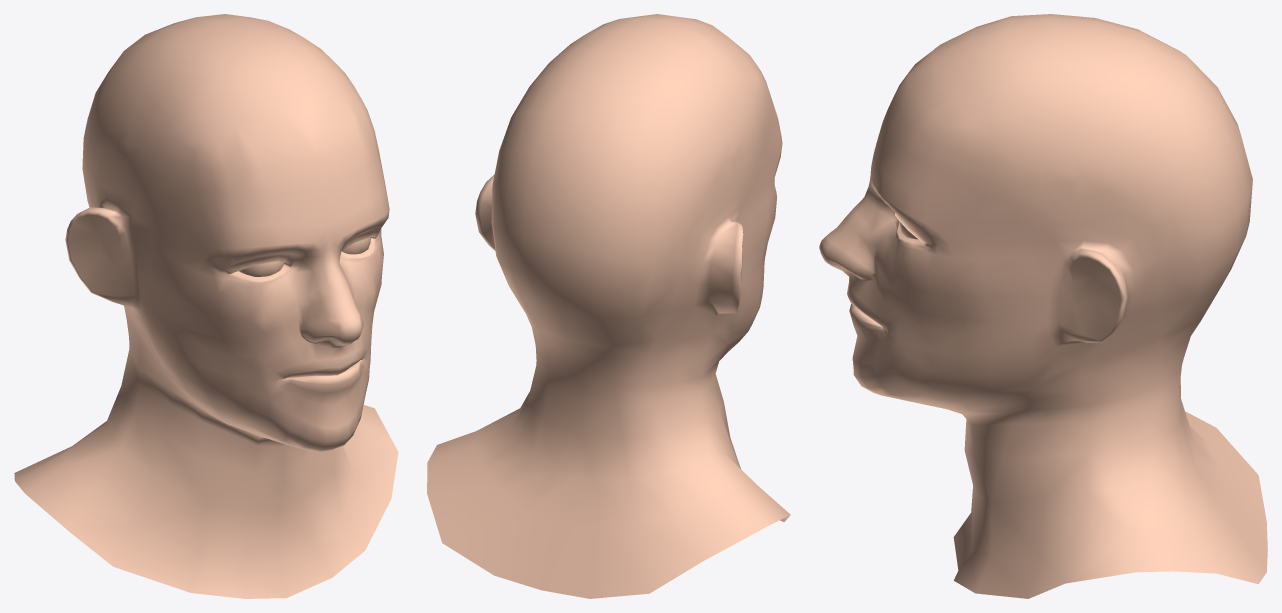
File: ManJohn_Head.fbx
3 views of the same model, side by side, from view 1: azimuth 30°, elevation 25°; view 2: azimuth 150°, elevation 25°; view 3: azimuth 270°, elevation 25° (orthographic). The views are drawn at different scales.
Parts seen in each view (by area): view 1: ManJohn_Head_lod0; view 2: ManJohn_Head_lod0; view 3: ManJohn_Head_lod0.
Part boxes in pixels (x1=…): ManJohn_Head_lod0: x1=14, y1=14, x2=398, y2=598; ManJohn_Head_lod0: x1=427, y1=14, x2=790, y2=598; ManJohn_Head_lod0: x1=819, y1=14, x2=1267, y2=598.
Size of what is drawn, in the model's own units: 23.12 by 33.47 by 25.11.
